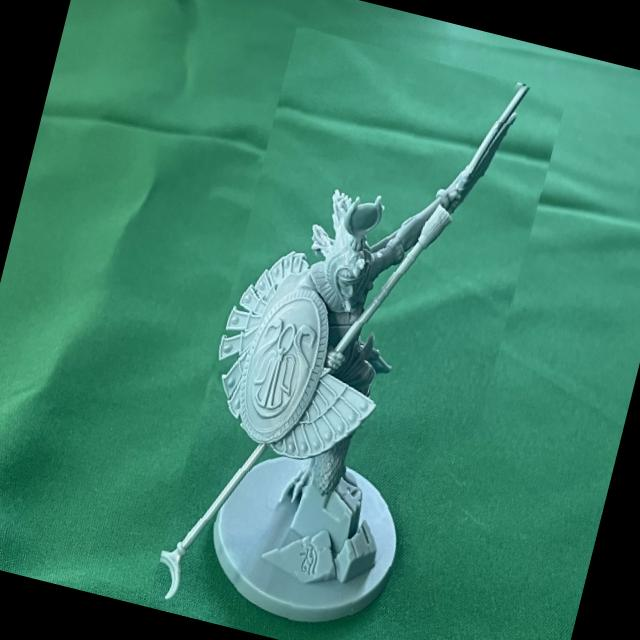isis: (149, 25, 565, 640)
